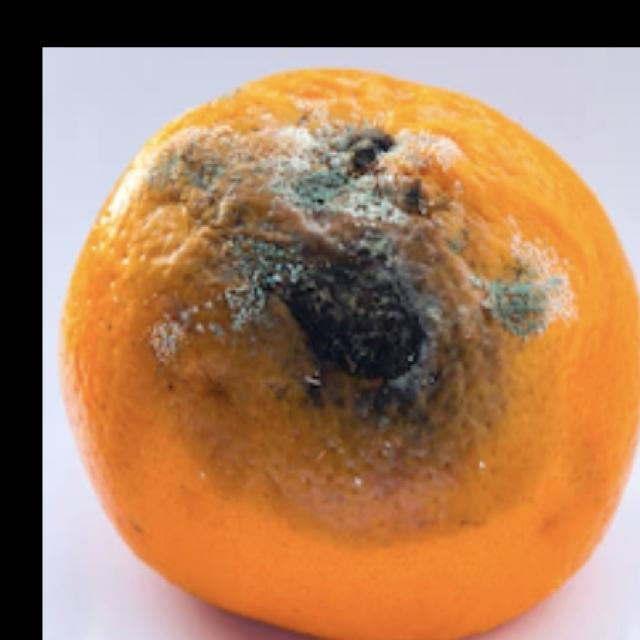sedikit-busuk: (63, 69, 639, 639), (117, 128, 551, 537)
